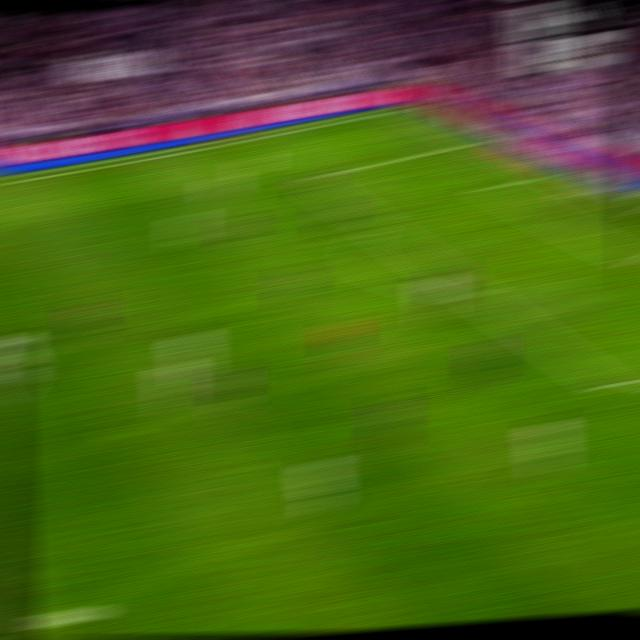bigarea_bottom_inner: (596, 375, 626, 397)
bigarea_top_inner: (296, 173, 322, 183)
bigarea_top_outter: (460, 135, 488, 146)
bottom_arc_area_intersection: (462, 288, 489, 301)
corner: (388, 104, 416, 113)
smallarea_top_inner: (479, 185, 504, 192)
top_arc_area_intersection: (361, 218, 388, 231)
